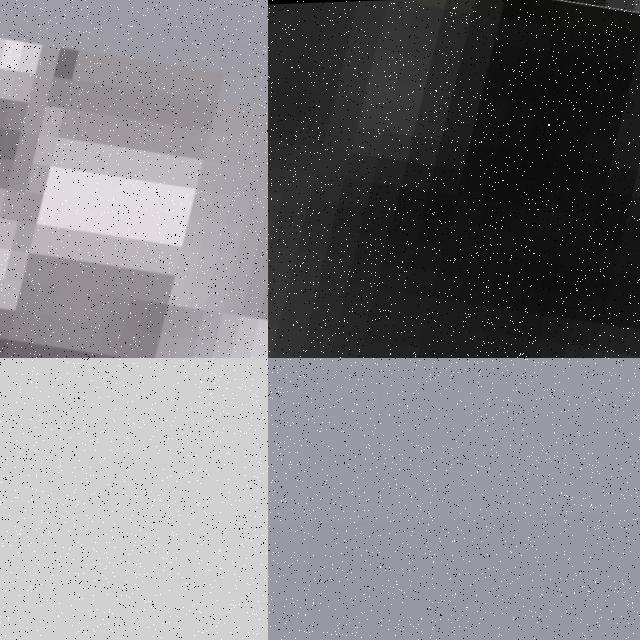0: (0, 0, 268, 358)
drone: (268, 0, 640, 358)
